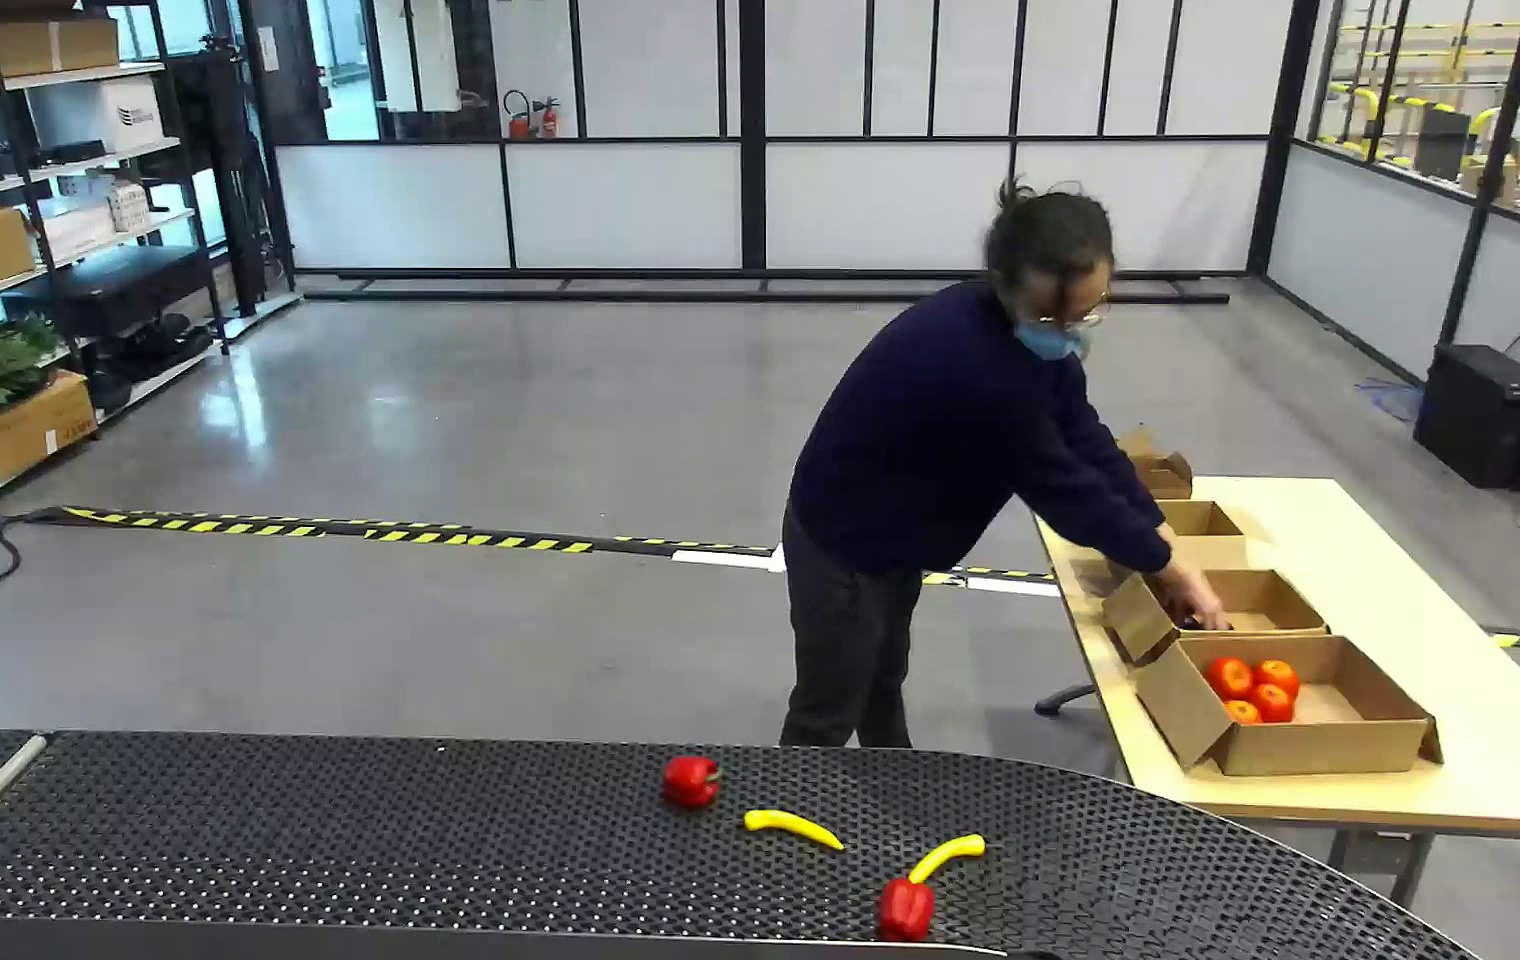Main droite: (1108, 378, 1147, 440)
